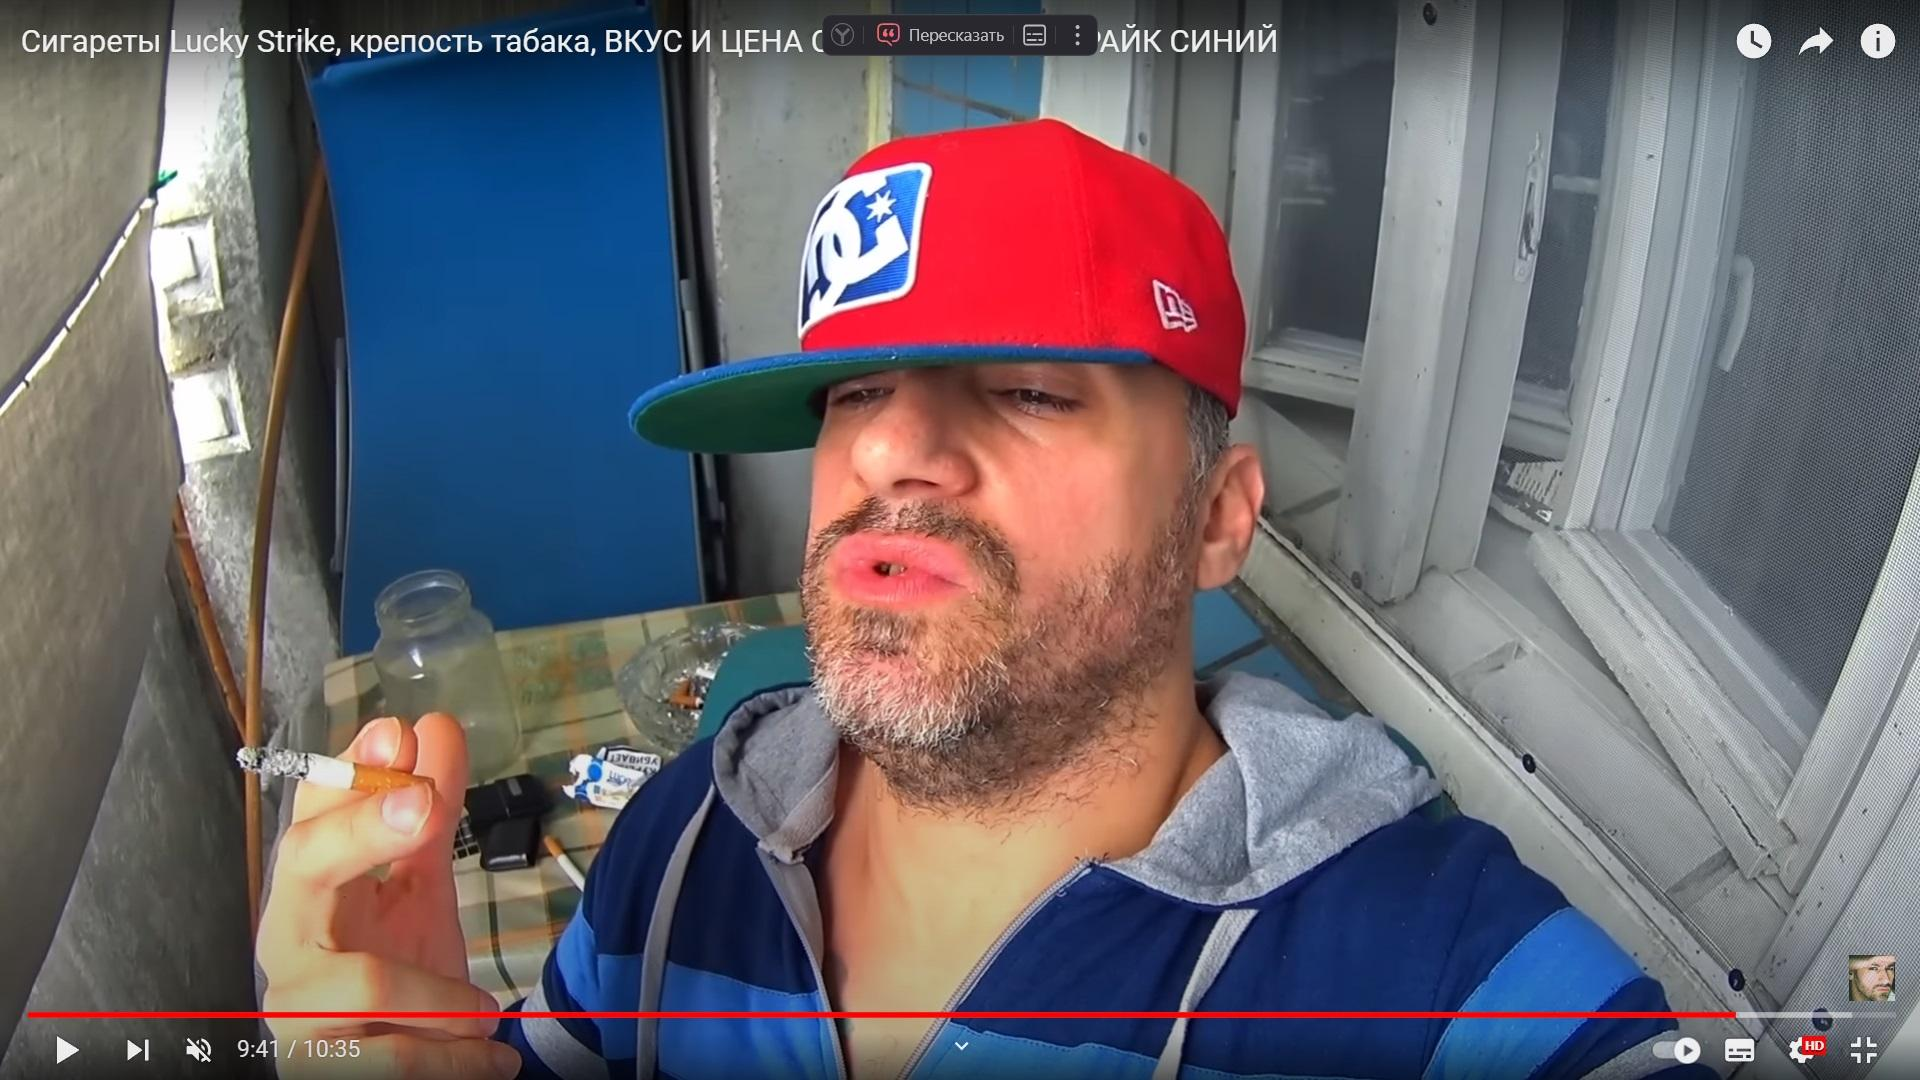cigarette: (236, 746, 431, 791)
